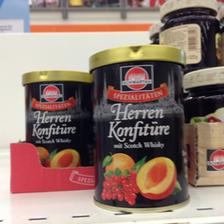Marmelade: (90, 44, 190, 212), (20, 70, 92, 166)
